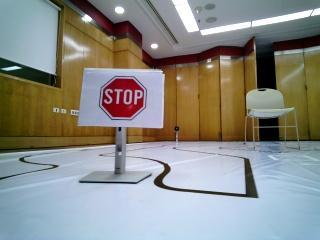stop: (95, 71, 156, 123)
